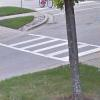Crosswalk: (11, 27, 76, 64)
